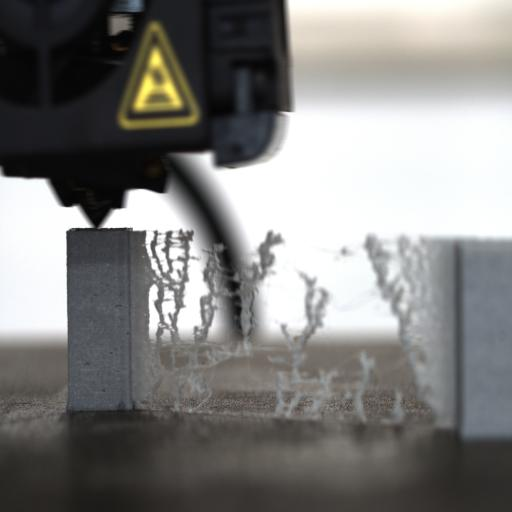stringing: (358, 232, 440, 420), (276, 316, 402, 424), (262, 251, 334, 418), (147, 230, 196, 355), (150, 328, 218, 410), (196, 239, 234, 349), (396, 233, 434, 315), (362, 232, 404, 304), (141, 308, 167, 404)
